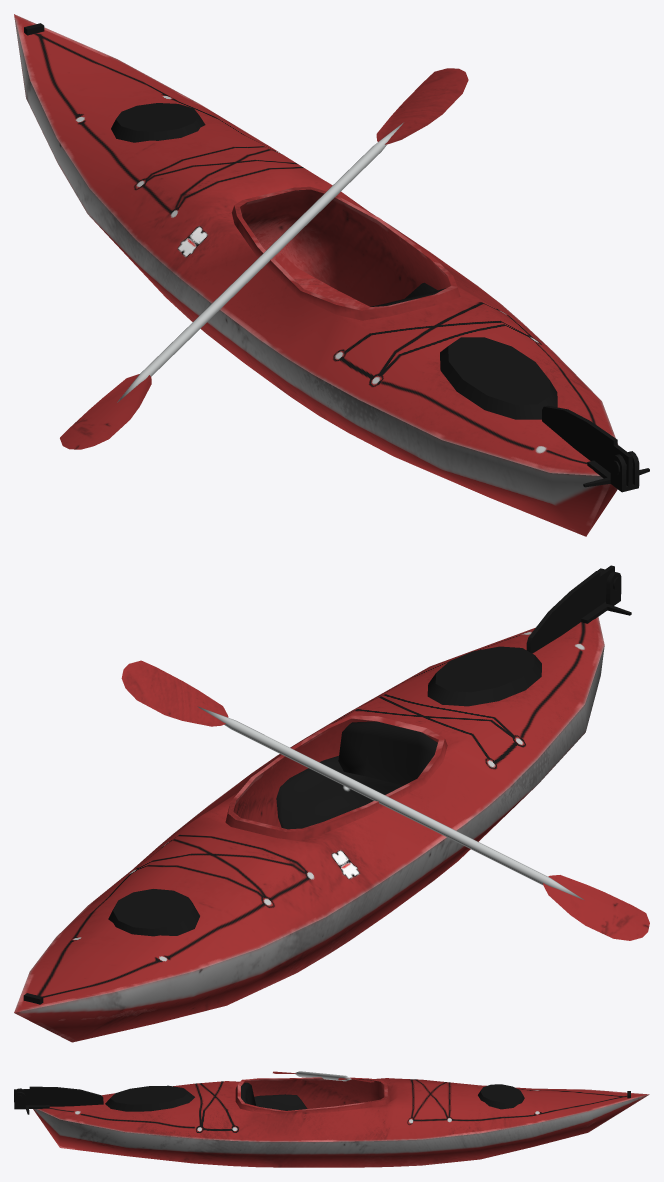
File: kayak.obj
3 views of the same model, one above another, from view 1: azimuth 30°, elevation 25°; view 2: azimuth 150°, elevation 25°; view 3: azimuth 270°, elevation 25° (orthographic). The views are drawn at different scales.
Visible parts, largest first — view 1: Object_8, Object_35, Object_20, Object_17, Object_26, Object_29; view 2: Object_8, Object_35, Object_20, Object_11, Object_14, Object_17, Object_26, Object_29; view 3: Object_8, Object_20, Object_26, Object_17, Object_14, Object_35, Object_29, Object_11.
Part boxes in pixels (left/top/right/bottom): Object_8: left=14, top=14, right=618, bottom=536; Object_35: left=60, top=68, right=468, bottom=449; Object_20: left=440, top=337, right=557, bottom=419; Object_17: left=111, top=103, right=205, bottom=142; Object_26: left=542, top=405, right=632, bottom=486; Object_29: left=583, top=451, right=649, bottom=492; Object_8: left=14, top=617, right=604, bottom=1042; Object_35: left=121, top=660, right=649, bottom=940; Object_20: left=427, top=646, right=541, bottom=706; Object_11: left=338, top=721, right=437, bottom=785; Object_14: left=276, top=756, right=402, bottom=829; Object_17: left=108, top=889, right=199, bottom=936; Object_26: left=526, top=565, right=614, bottom=653; Object_29: left=581, top=568, right=631, bottom=623; Object_8: left=33, top=1077, right=649, bottom=1167; Object_20: left=105, top=1085, right=194, bottom=1111; Object_26: left=14, top=1086, right=103, bottom=1106; Object_17: left=478, top=1084, right=524, bottom=1109; Object_14: left=254, top=1094, right=307, bottom=1110; Object_35: left=273, top=1071, right=374, bottom=1082; Object_29: left=14, top=1088, right=49, bottom=1114; Object_11: left=241, top=1082, right=255, bottom=1105.
Bounding box in the file's own units: 4.32 × 1.9 × 9.9.
Materials: 1 (1 with a texture image).
